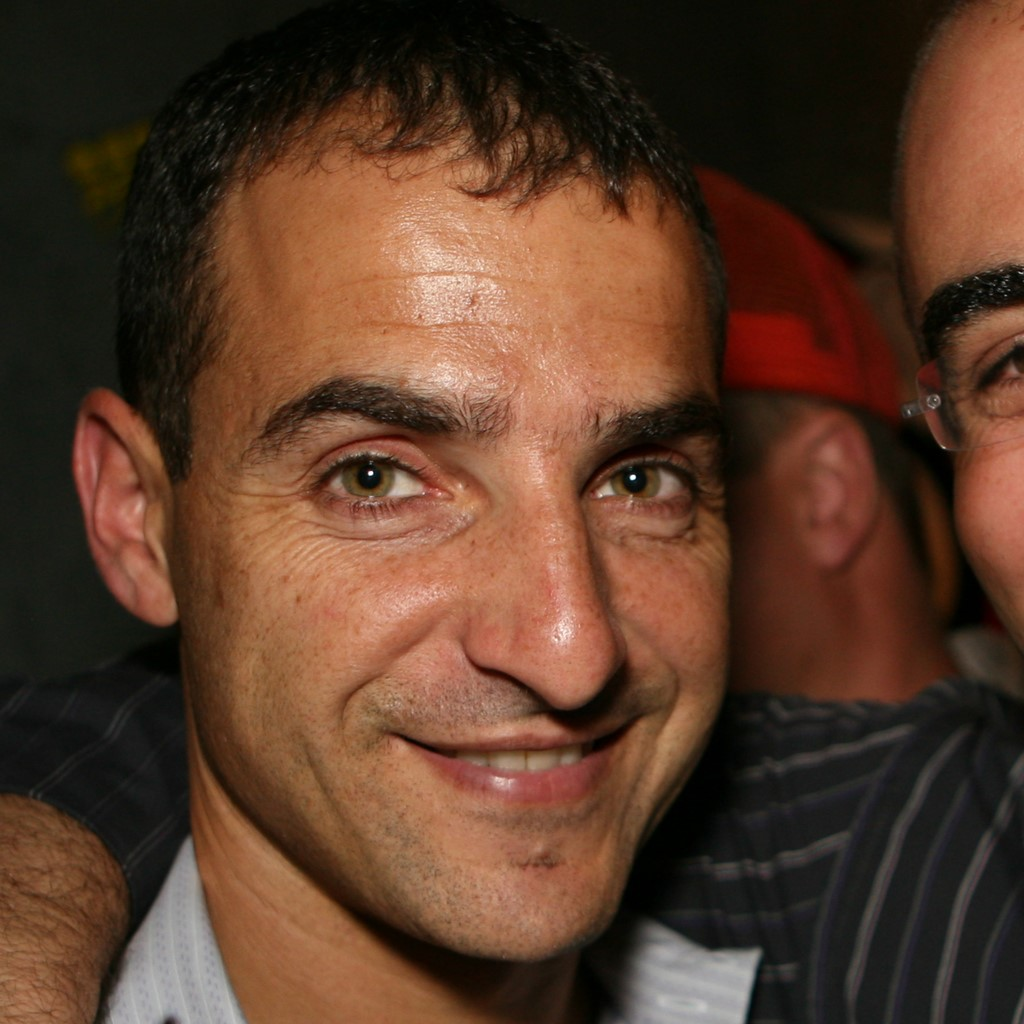sin_mascara: (85, 100, 718, 968)
